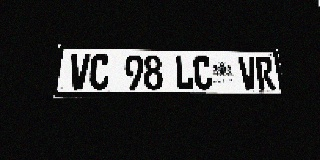8: (144, 55, 163, 90)
9: (124, 55, 143, 90)
C: (89, 54, 110, 90), (193, 56, 213, 90)
L: (175, 55, 194, 90)
R: (255, 57, 276, 90)
V: (68, 54, 90, 90), (238, 57, 258, 90)
